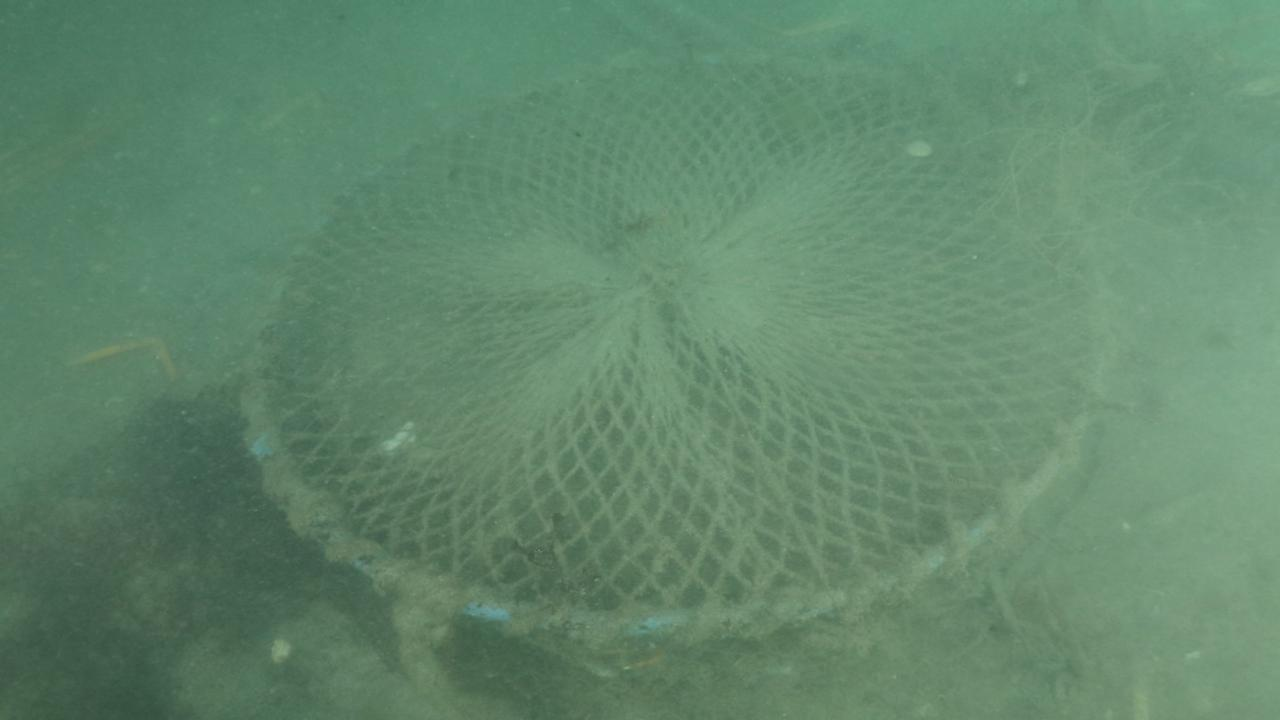bundle of ropes: (373, 573, 505, 720)
circular fish trap: (235, 47, 1119, 654)
